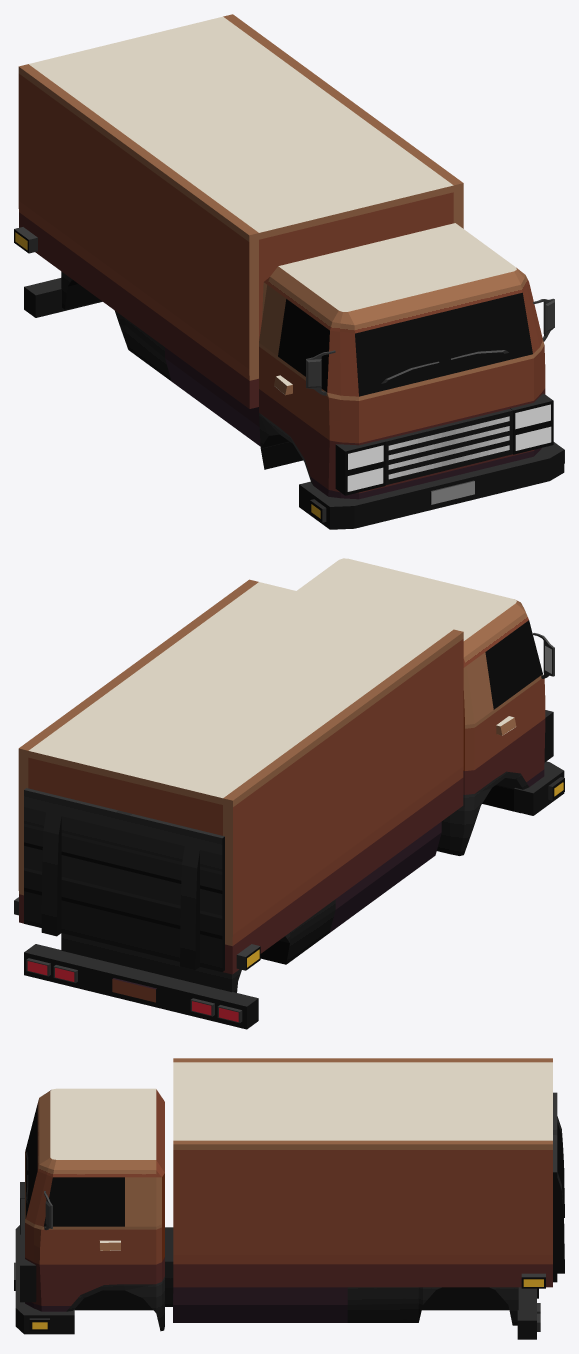
File: Truck.005.fbx
3 renders of one model, top to bottom at view 1: azimuth 30°, elevation 25°; view 2: azimuth 150°, elevation 25°; view 3: azimuth 270°, elevation 25°, orthographic. The views are drawn at different scales.
Parts seen in each view (by area): view 1: Truck.005; view 2: Truck.005; view 3: Truck.005.
Part boxes in pixels (x1,y1,x2,y2): Truck.005: [14, 14, 564, 529]; Truck.005: [14, 558, 564, 1029]; Truck.005: [14, 1058, 564, 1339].
Bounding box in the file's own units: 2.25 × 2.03 × 5.25.
